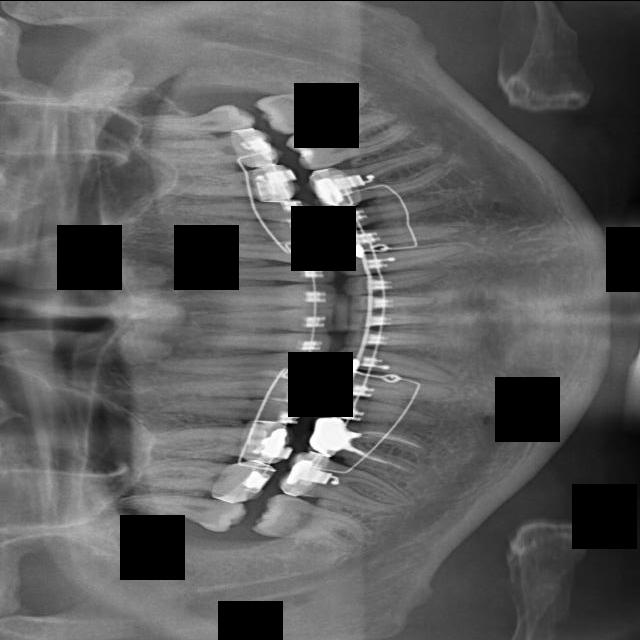3M ESPE Implant: (118, 483, 248, 537)
AGS Medikal Implant: (194, 258, 332, 283)
AMerOss Implant: (161, 238, 331, 262)
Amalgam filling: (149, 213, 317, 239)
Anthogyr Implant: (170, 198, 310, 218)
Bicon Implant: (146, 161, 296, 198)
BioHorizons Implant: (146, 123, 283, 183)
BioLife Implant: (137, 103, 253, 131)
Biomet 3i Implant: (256, 77, 367, 136)
Blue Sky Bio Implant: (287, 104, 418, 174)
Camlog Implant: (309, 142, 452, 213)
Caries: (133, 447, 275, 505)
Composite filling: (328, 194, 445, 231)
Cowellmedi Implant: (335, 218, 456, 252)
Crown: (333, 239, 469, 277)
DENTSPLY Implant: (341, 265, 446, 296)
Dentatus Implant: (347, 289, 437, 311)
Dentis Implant: (349, 310, 436, 326)
Dentium Implant: (342, 327, 438, 344)
Euroteknika Implant: (329, 341, 456, 385)
Filling: (325, 369, 455, 402)
Frontier Implant: (314, 389, 435, 434)
Hiossen Implant: (136, 414, 294, 465)
Implant: (397, 507, 398, 508)
Implant Direct: (304, 408, 432, 478)
Keystone Dental Implant: (252, 489, 374, 556)
MIS Implant: (151, 390, 298, 424)
Mandible: (154, 371, 309, 402)
Maxilla: (148, 351, 326, 379)
Megagen Implant: (193, 331, 330, 353)
Neodent Implant: (193, 304, 333, 333)
Neoss Implant: (194, 281, 336, 309)
